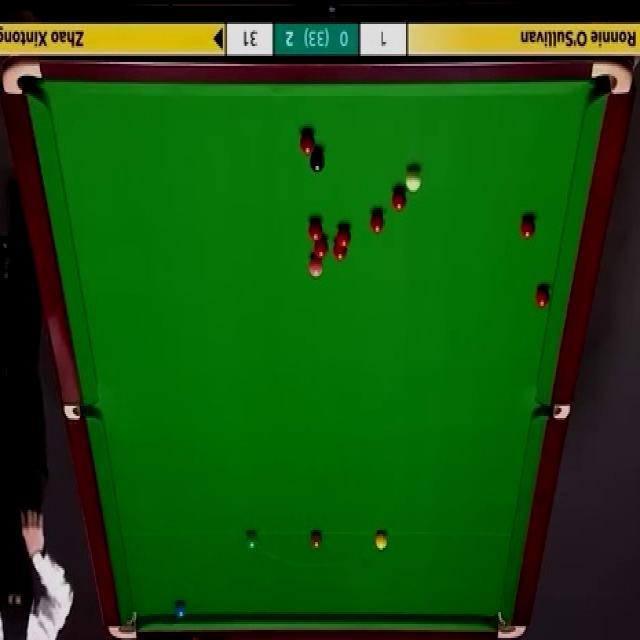black-ball: (311, 150, 325, 173)
blue-ball: (174, 598, 187, 620)
brown-ball: (309, 530, 322, 550)
green-ball: (245, 529, 259, 550)
pink-ball: (309, 252, 323, 278)
red-ball: (391, 186, 407, 212), (534, 284, 551, 308), (313, 236, 329, 261), (308, 215, 322, 243), (300, 132, 316, 156), (370, 211, 386, 235), (333, 236, 347, 262), (522, 217, 534, 240), (338, 227, 350, 247)
white-ball: (406, 168, 422, 193)
yellow-ball: (374, 530, 389, 551)
